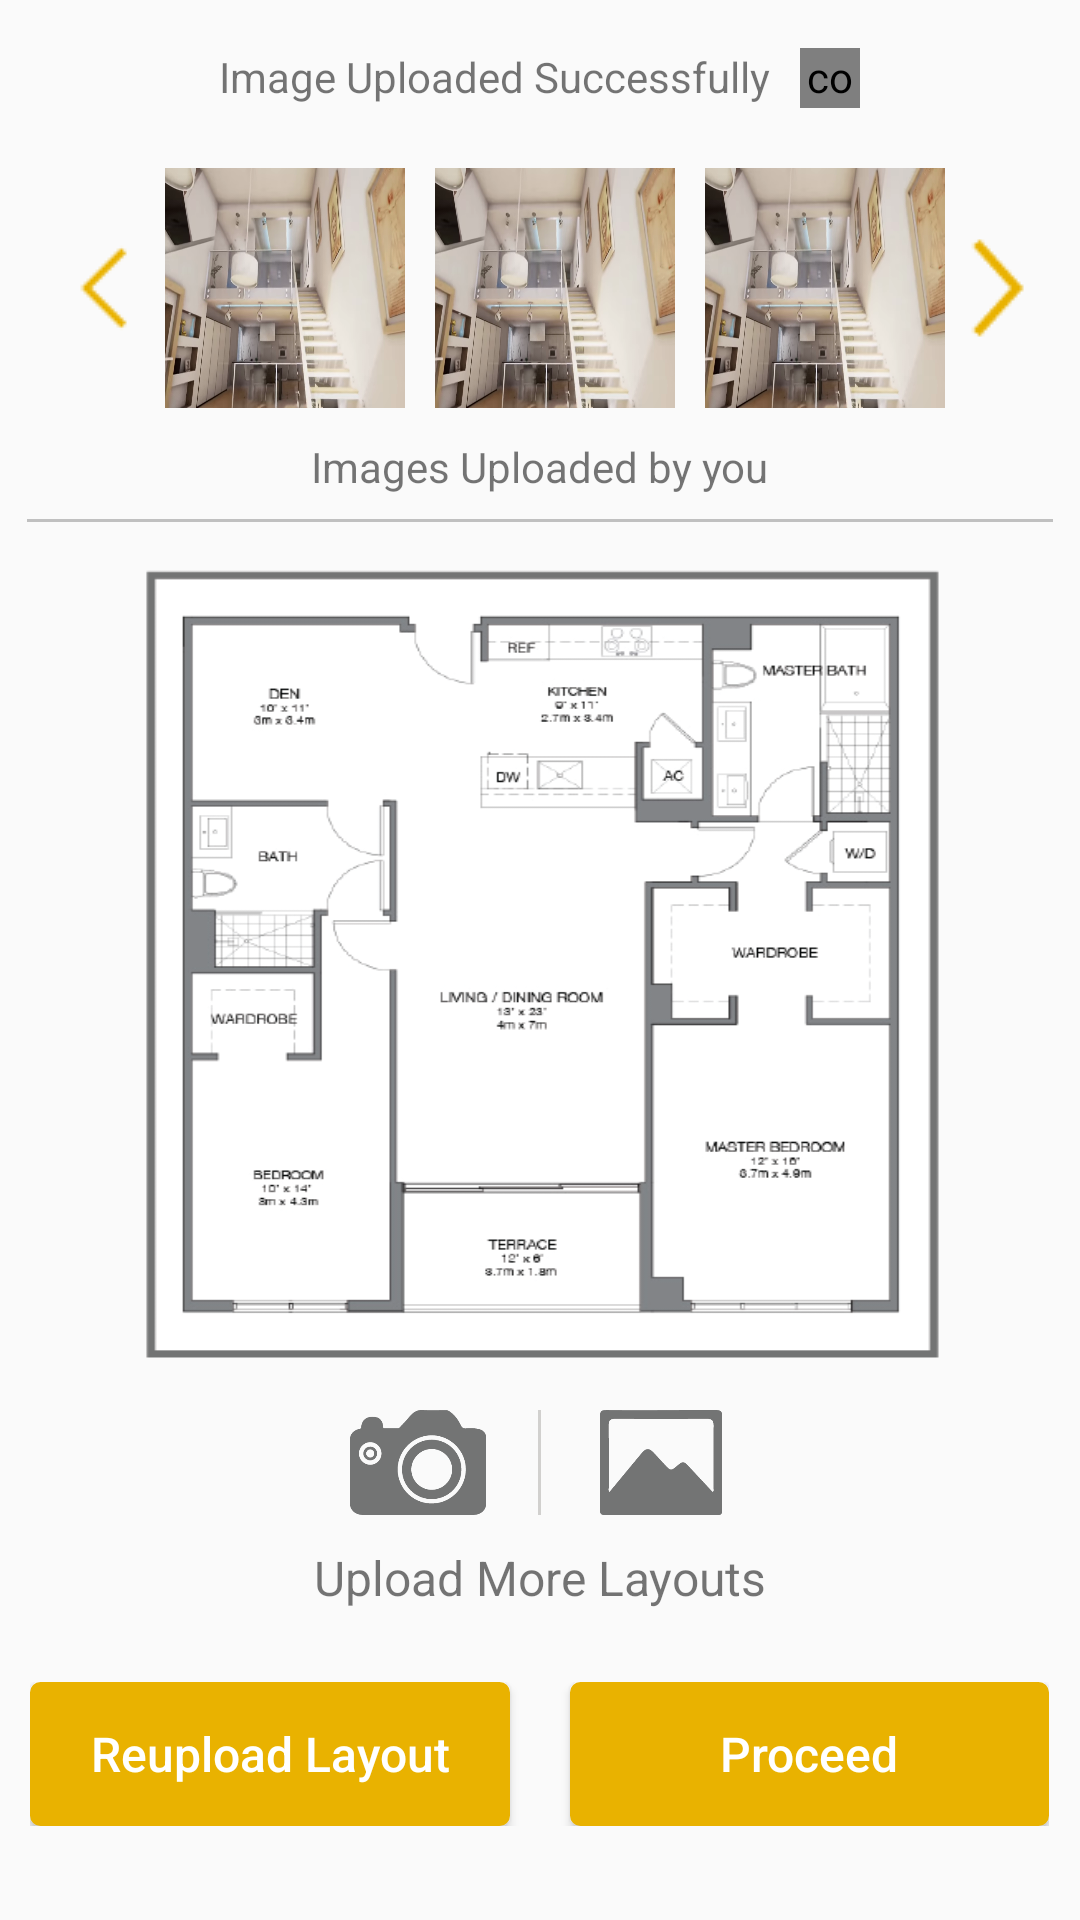

Point at icon controls on the screen. Image size 1080px x 1920px, points as (x,y).
back: (103,288)
camera: (418,1462)
gallery: (661,1462)
next: (998,288)
